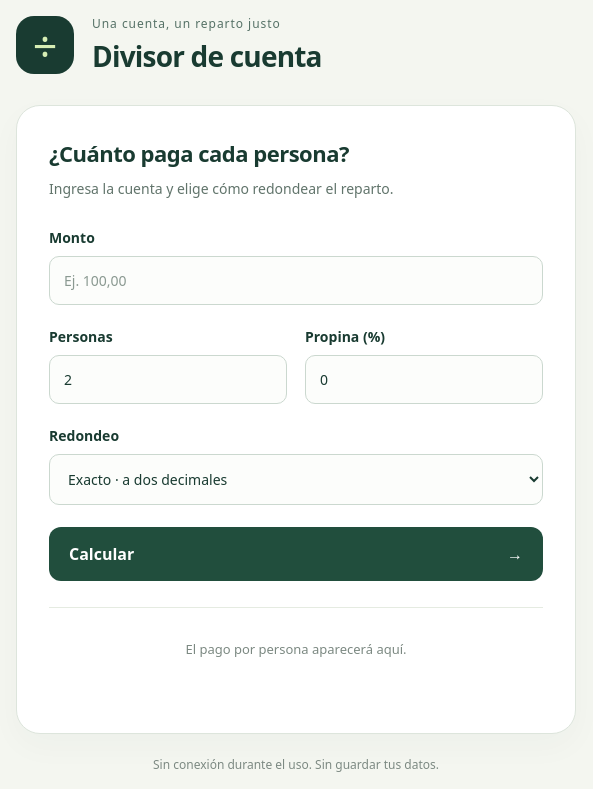
Scenario: Aclaraciones y transiciones de la spec › desbordamiento muestra mensaje sin invocar cálculo
Type "1e308" into the field labelled "Monto". click: (296, 281)
box: top-left (49, 256), bottom-right (543, 305)
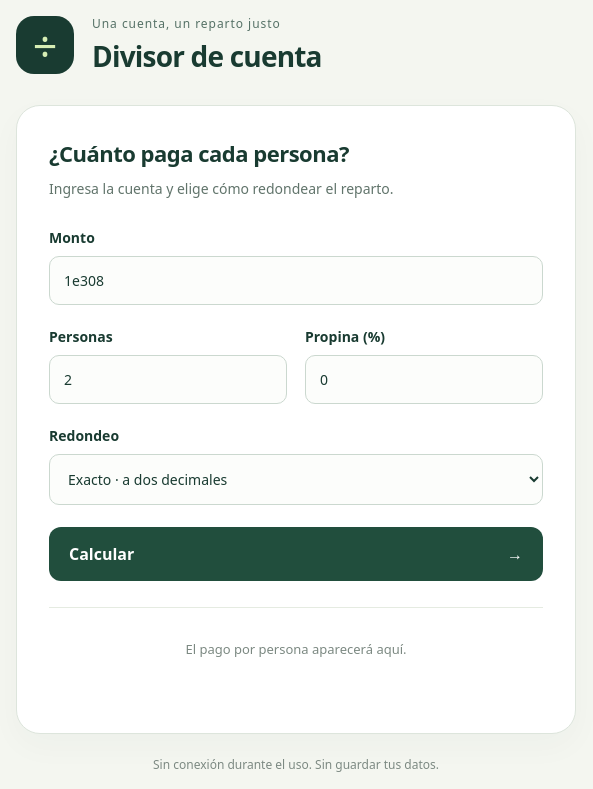
Replace the text in the field labelled "Personas" with "1". click: (168, 380)
box: top-left (49, 355), bottom-right (287, 404)
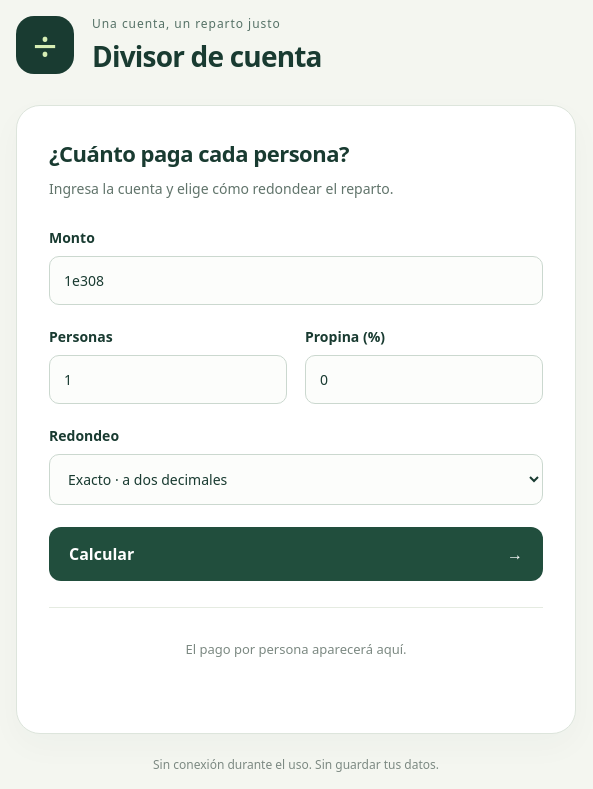
Replace the text in the field labelled "Propina (%)" with "100". click: (424, 380)
box: top-left (305, 355), bottom-right (543, 404)
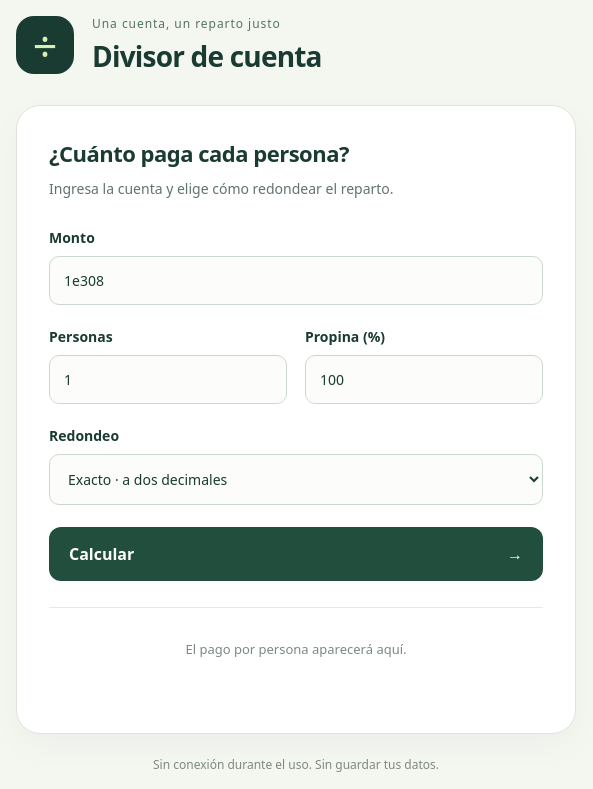
Click the button "Calcular →". click: (102, 554)
box: top-left (49, 527), bottom-right (543, 581)
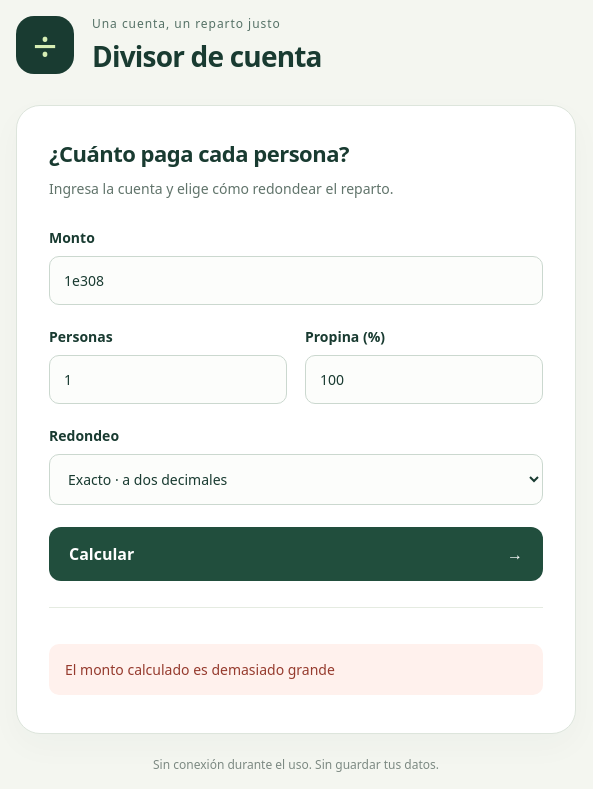
Check: the message reads "El monto calculado es demasiado grande", box top-left (65, 660), bottom-right (335, 679)
